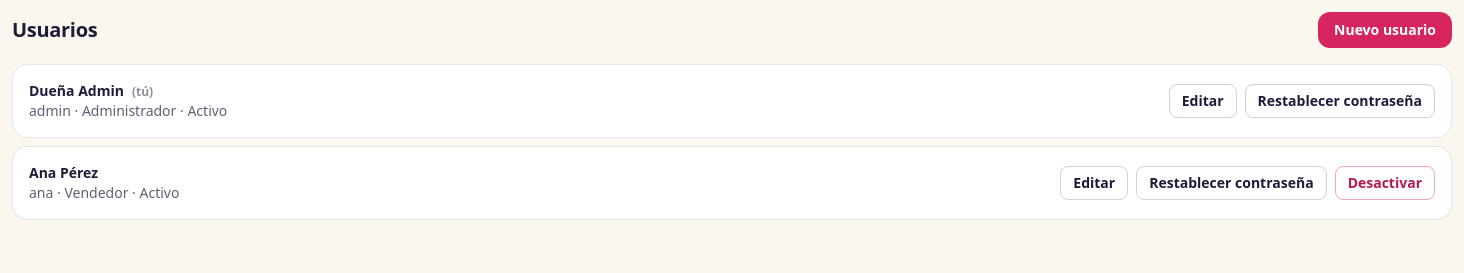
Usuarios (RF-015) › restablece la contraseña temporal
This screenshot has width=1464, height=273.
Click the button with aria-label "Restablecer contraseña de Ana Pérez": (1231, 183) top-left (1136, 166), bottom-right (1327, 200)
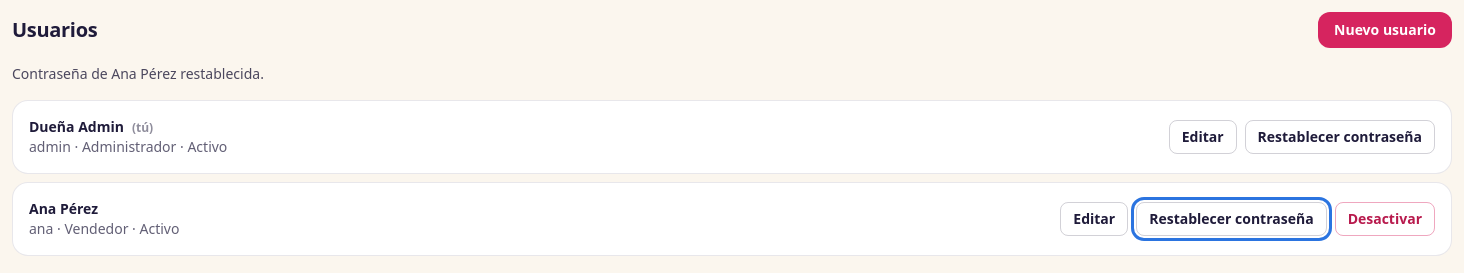
Check: the message shows "restablecida", box top-left (12, 64), bottom-right (264, 83)
